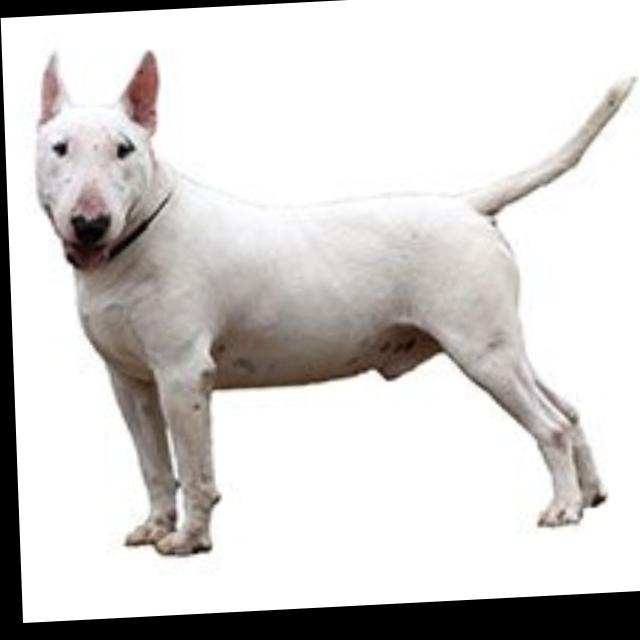bullterrier: (28, 24, 640, 563)
